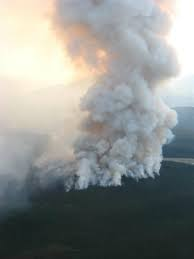smoke: (44, 1, 194, 191)
